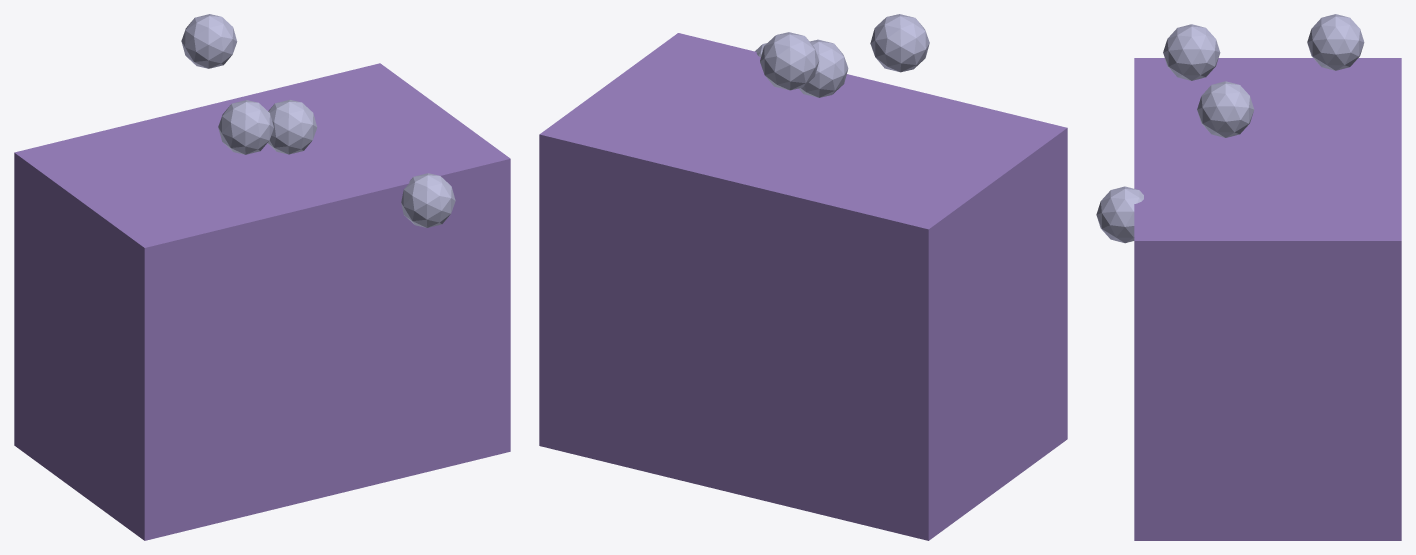
Rendered from star_wraith.glb.
The picture shows the model from 3 angles, left to right: view 1: azimuth 30°, elevation 25°; view 2: azimuth 150°, elevation 25°; view 3: azimuth 270°, elevation 25°; orthographic projection. The views are drawn at different scales.
Parts seen in each view (by area): view 1: geometry_0; view 2: geometry_0; view 3: geometry_0.
Part boxes in pixels (left/top/right/bottom): geometry_0: left=14, top=14, right=510, bottom=540; geometry_0: left=539, top=14, right=1067, bottom=540; geometry_0: left=1096, top=14, right=1401, bottom=540.
Bounding box in the file's own units: 0.68 × 0.7333 × 0.4795.
